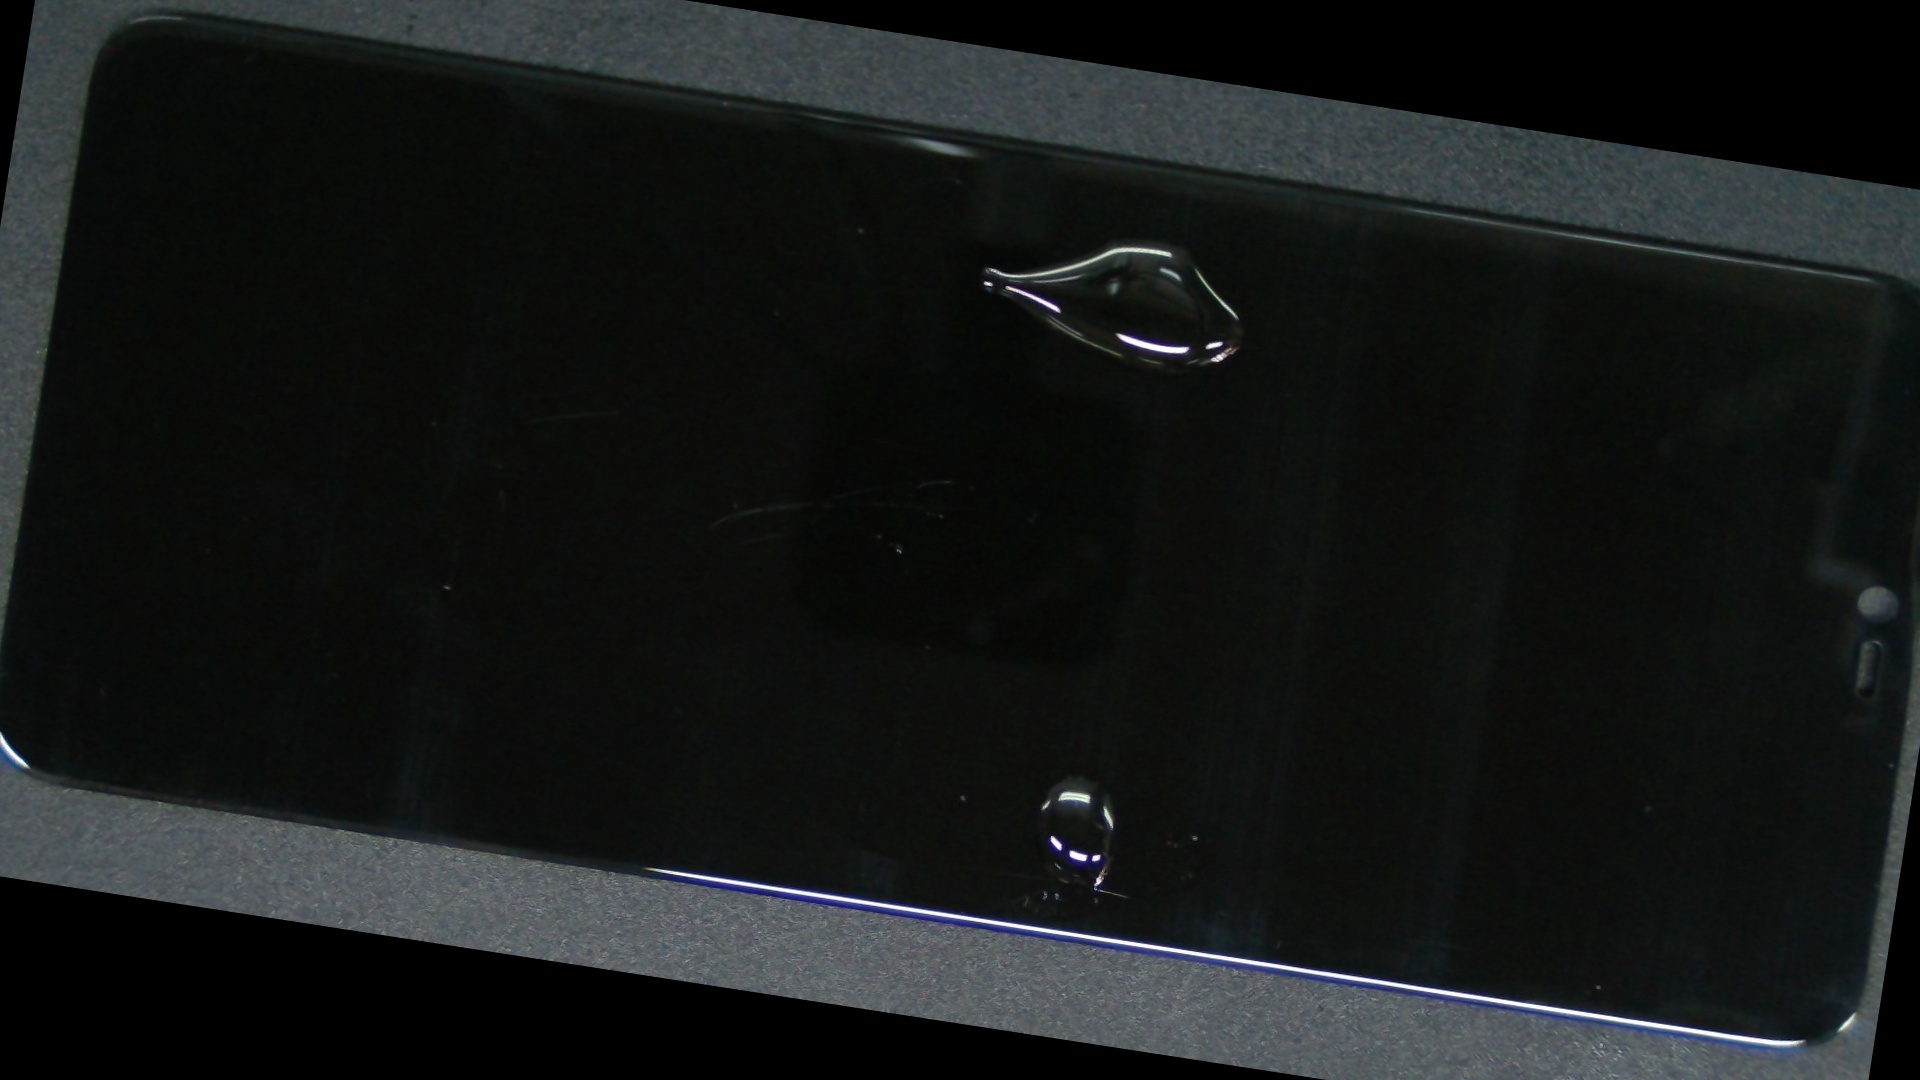oil: (472, 339, 1700, 1080), (582, 75, 1749, 423)
